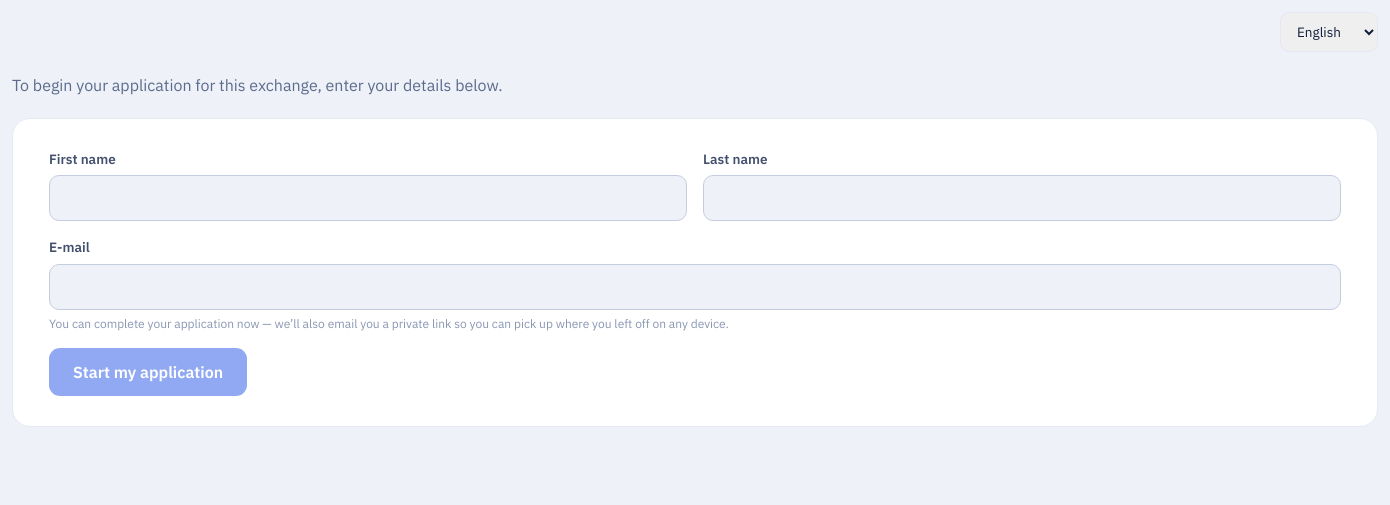
it: ApplicationStartForm › shows the "draft in progress" notice, stores nothing, does not navigate
The width and height of the screenshot is (1390, 505).
Type "Léa" into the field labelled "First name" at [368, 198], box [49, 175, 687, 221]
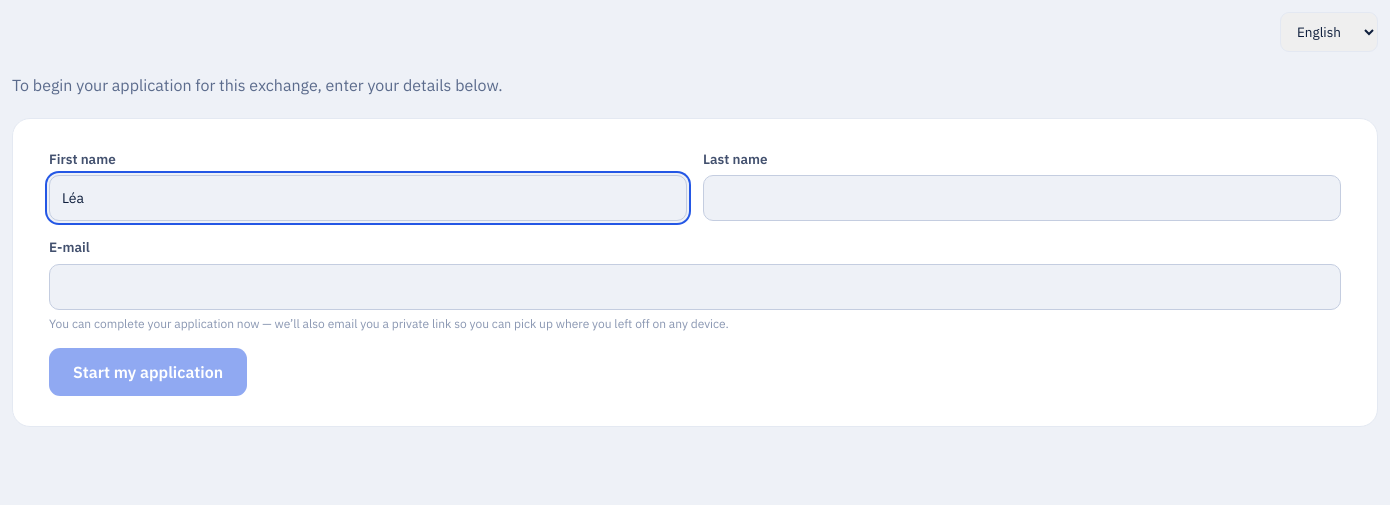
Type "Martin" into the field labelled "Last name" at [1022, 198], box [703, 175, 1341, 221]
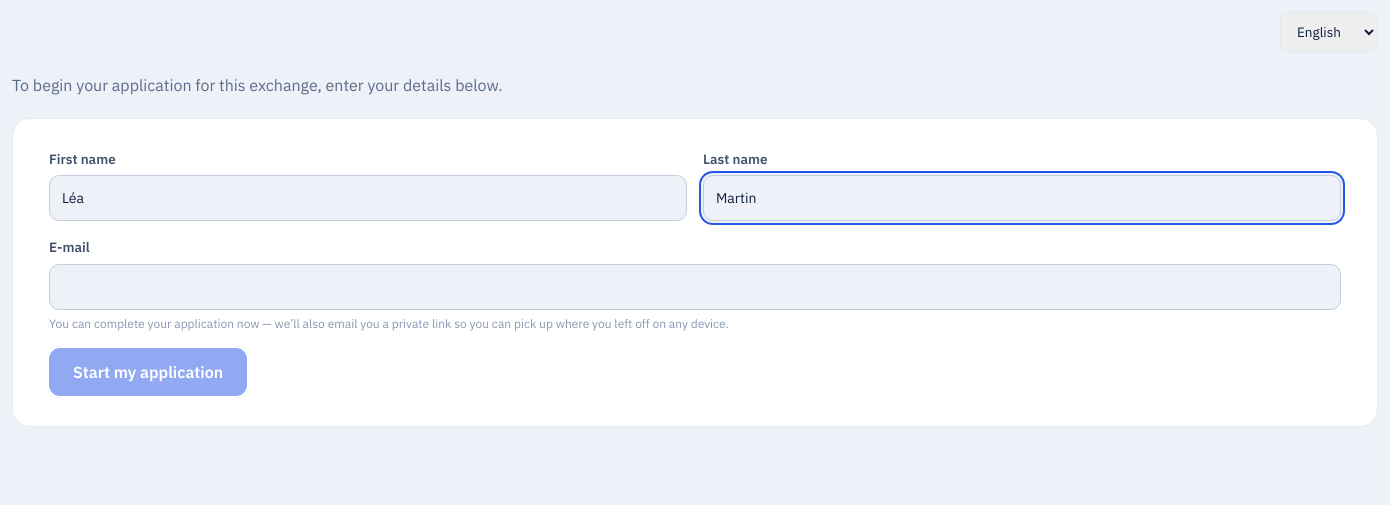
Type "lea@example.com" into the field labelled "E-mail" at [695, 286], box [49, 264, 1341, 310]
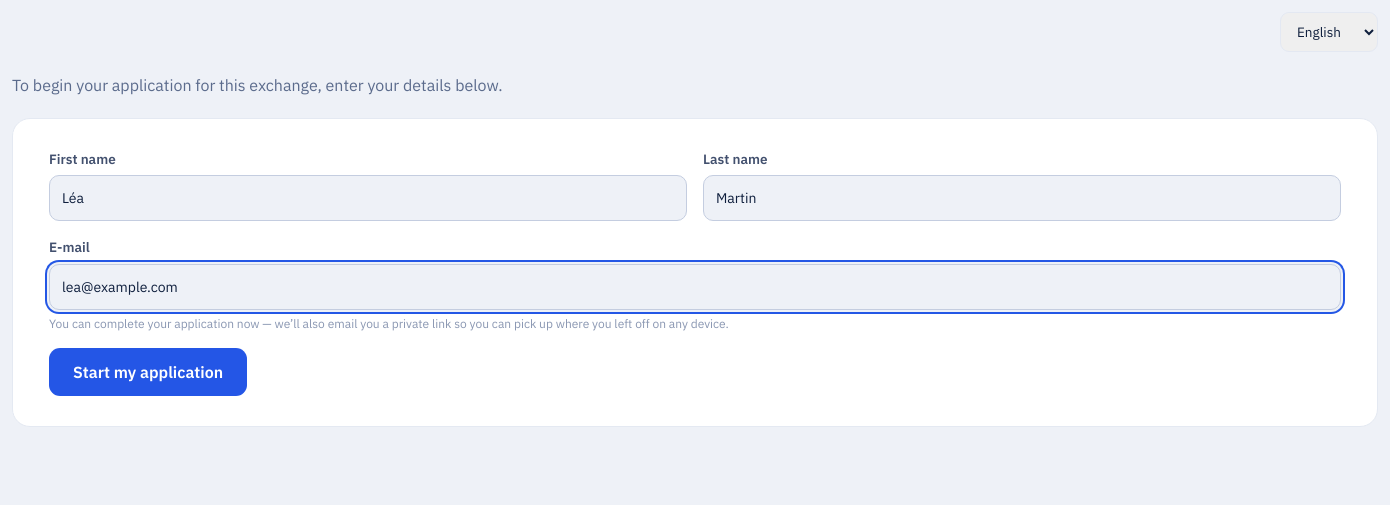
Click the button "Start my application" at [148, 372], box [49, 348, 247, 396]
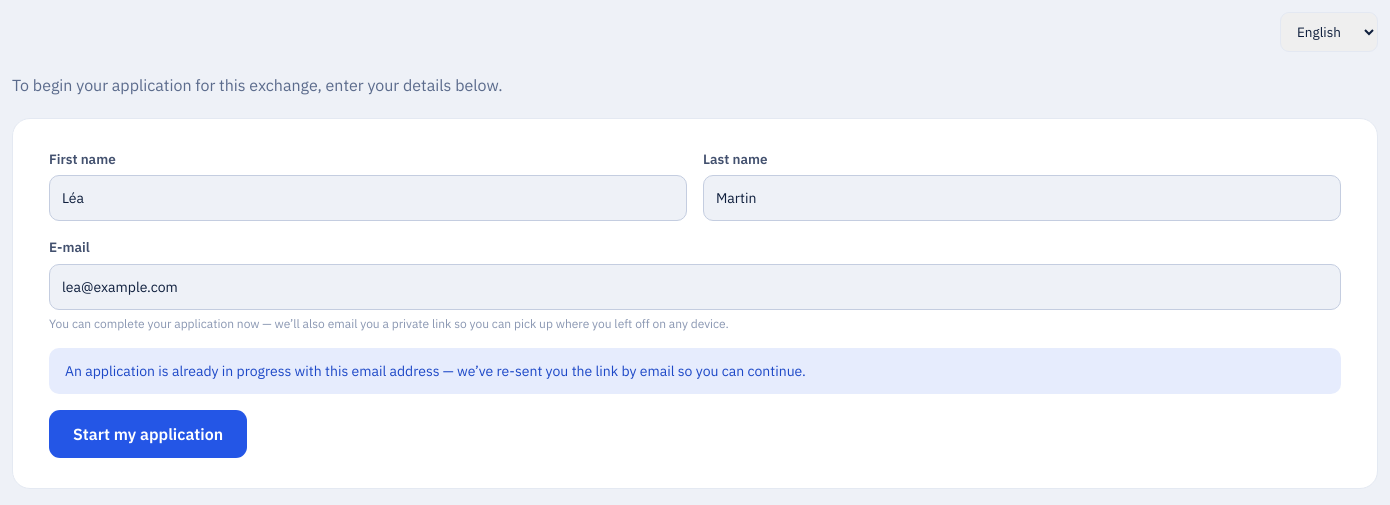
Expected: the text "already in progress with this email" is shown, [65, 362, 806, 380]
